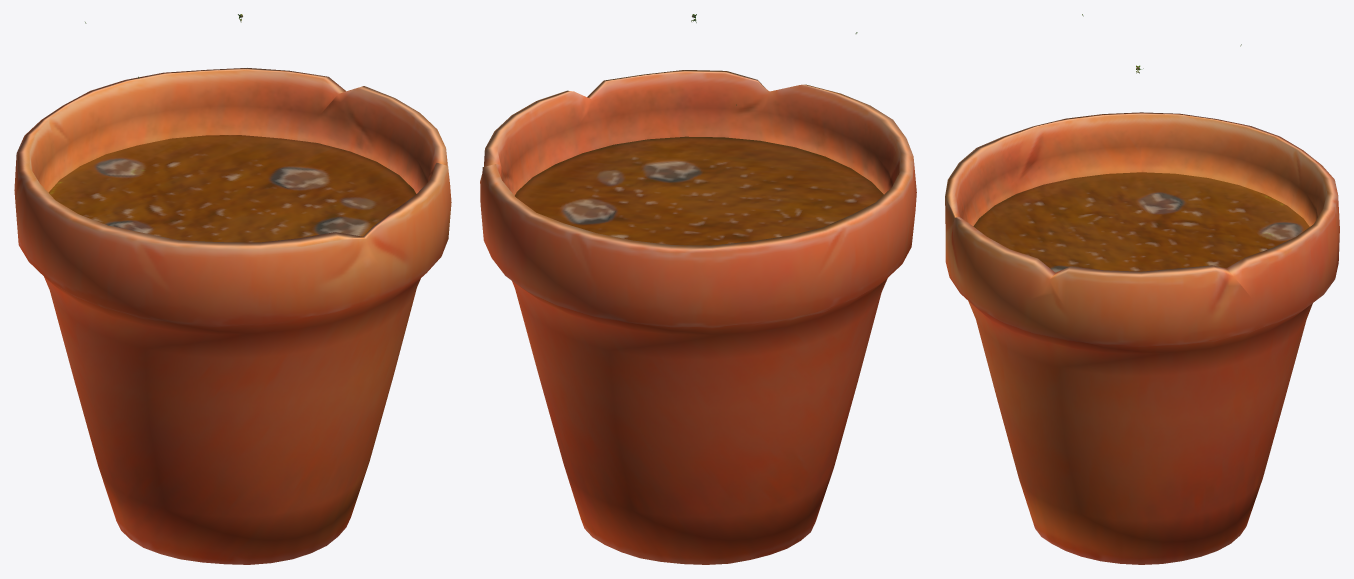
File: monster-plant-b7e677.glb
The picture shows the model from 3 angles, left to right: view 1: azimuth 30°, elevation 25°; view 2: azimuth 150°, elevation 25°; view 3: azimuth 270°, elevation 25°; orthographic projection. The views are drawn at different scales.
Visible parts, largest first — view 1: PropMesh; view 2: PropMesh; view 3: PropMesh.
Boxes of the visible parts, x1,y1,x2,y2 form: PropMesh: [14, 14, 451, 564]; PropMesh: [480, 14, 916, 564]; PropMesh: [945, 14, 1339, 564].
Bounding box in the file's own units: 1.74 × 2.2 × 1.72.
Materials: 2 (2 with a texture image).
